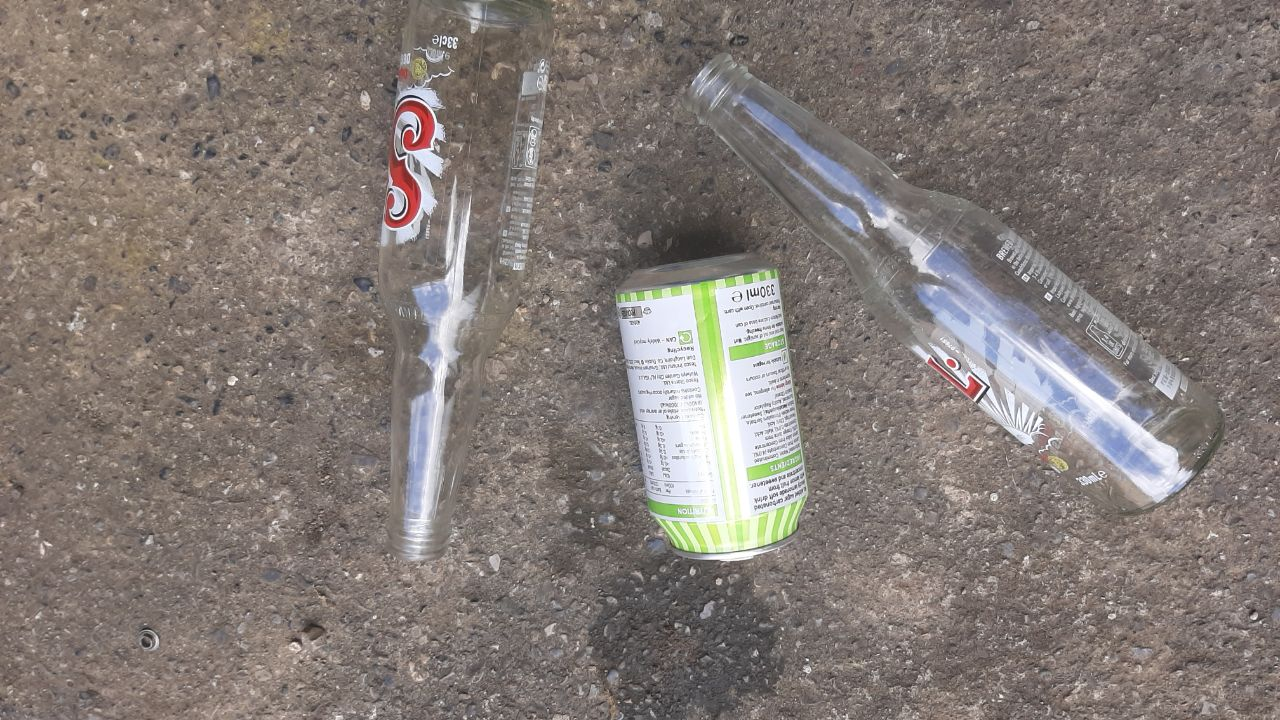Can: (606, 238, 824, 577)
